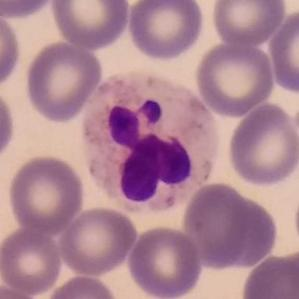Neutrophil: (71, 65, 220, 220)
RBC: (180, 179, 258, 270), (6, 152, 87, 235), (23, 40, 104, 123), (224, 100, 299, 188), (193, 40, 276, 117), (125, 223, 205, 299), (57, 204, 139, 278), (212, 193, 280, 271), (125, 0, 207, 63), (0, 225, 64, 296), (49, 0, 132, 50), (209, 0, 288, 48), (266, 6, 299, 96), (239, 251, 299, 299), (44, 272, 119, 299), (0, 7, 23, 90), (0, 84, 18, 167), (270, 246, 298, 299), (0, 0, 57, 20), (0, 282, 42, 299)
